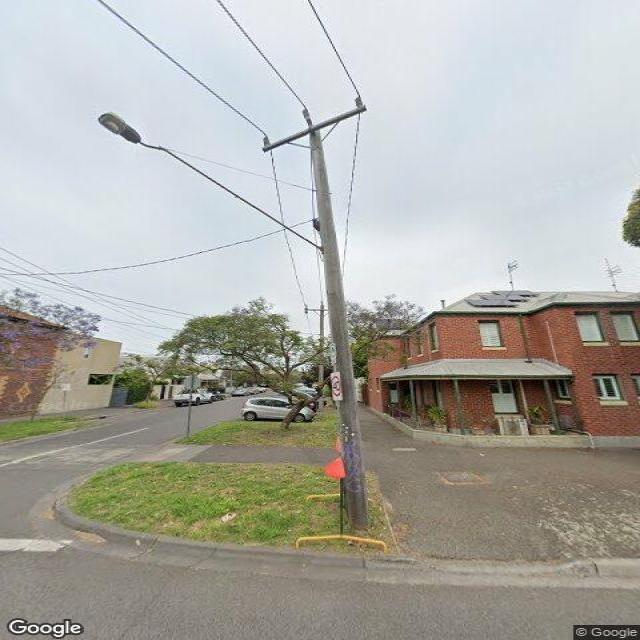HV-transmission: (258, 90, 368, 152)
crossarm: (262, 99, 370, 152)
streetlight: (95, 110, 326, 258)
timber-pole: (305, 120, 367, 530)
